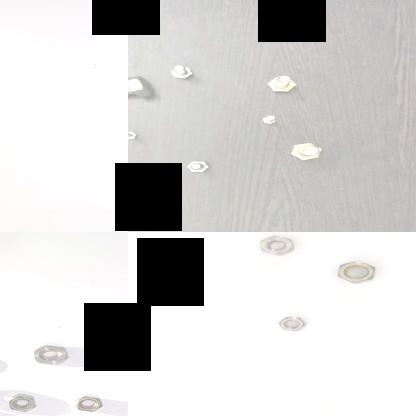Bolts: (286, 140, 324, 166), (259, 74, 299, 94), (128, 76, 154, 102), (181, 157, 214, 175), (168, 64, 194, 80), (128, 126, 143, 145), (258, 113, 278, 126)
NUTS: (330, 258, 380, 286), (32, 343, 70, 367), (256, 235, 298, 255), (72, 394, 106, 416), (274, 314, 310, 334), (7, 395, 39, 415)
